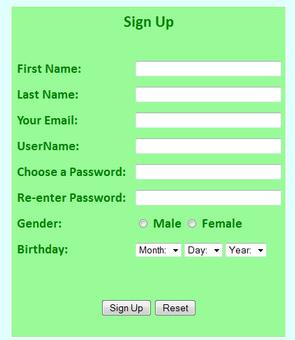button: (102, 300, 152, 315), (155, 300, 196, 316)
field: (132, 61, 281, 78), (132, 162, 281, 179), (132, 85, 280, 102), (132, 111, 280, 128), (133, 137, 281, 154), (133, 189, 281, 205)
